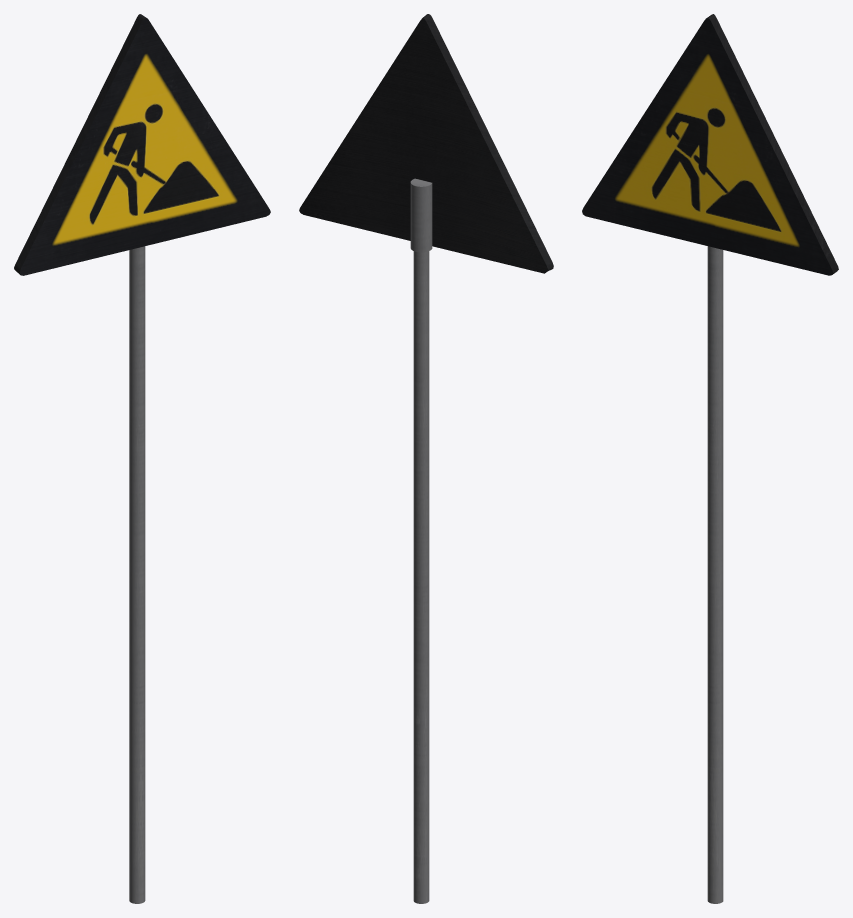
The model's file is bauschild.fbx.
3 renders of one model, left to right at view 1: azimuth 30°, elevation 25°; view 2: azimuth 150°, elevation 25°; view 3: azimuth 330°, elevation 25°, orthographic.
Parts seen in each view (by area): view 1: polySurface1; view 2: polySurface1; view 3: polySurface1.
Boxes of the visible parts, bbox=[...] form: polySurface1: bbox=[14, 14, 270, 903]; polySurface1: bbox=[299, 14, 553, 903]; polySurface1: bbox=[582, 14, 838, 903].
Size of the model in its own units: 1.9 by 6.43 by 0.1766.
